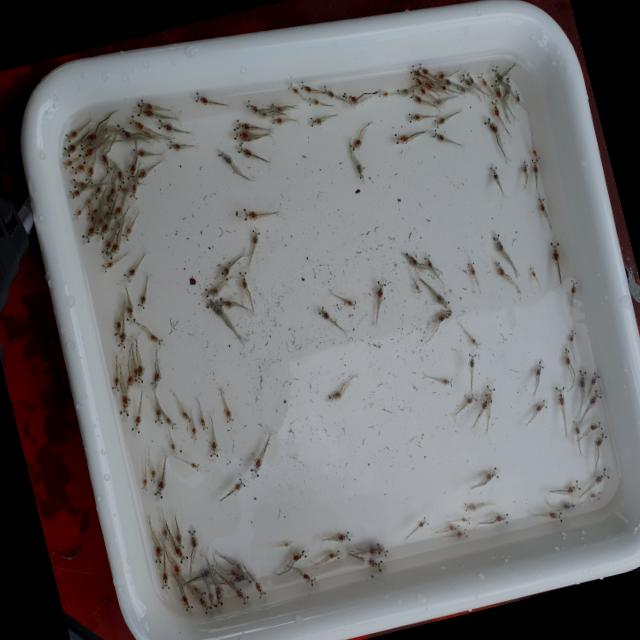babyshrimp: (218, 392, 238, 429), (201, 294, 225, 316), (430, 303, 454, 325), (198, 276, 220, 299), (151, 468, 166, 501), (230, 582, 250, 606), (124, 293, 139, 324), (195, 591, 213, 616), (491, 228, 507, 255), (483, 112, 499, 139), (113, 159, 127, 188), (240, 205, 265, 221), (548, 237, 560, 270), (585, 387, 603, 409), (352, 155, 366, 182), (297, 568, 318, 586), (592, 464, 610, 485), (218, 255, 232, 282), (341, 89, 363, 106), (248, 454, 262, 480), (430, 290, 450, 308), (77, 145, 95, 165), (120, 261, 136, 283), (329, 526, 351, 542), (374, 277, 387, 304), (208, 430, 220, 459), (482, 464, 500, 483), (562, 477, 581, 495), (407, 60, 425, 79), (243, 94, 260, 114), (554, 383, 567, 409), (237, 267, 249, 295), (217, 293, 238, 309), (179, 589, 194, 611), (252, 578, 267, 600), (212, 582, 225, 607), (405, 105, 423, 123), (215, 147, 233, 165), (172, 545, 189, 564), (231, 125, 254, 139), (363, 554, 383, 570), (128, 112, 144, 132), (391, 131, 412, 146), (479, 390, 492, 414), (186, 525, 199, 549), (119, 388, 130, 416), (84, 156, 95, 184), (134, 100, 152, 117), (194, 88, 213, 104), (317, 302, 332, 322), (593, 429, 608, 449), (465, 350, 478, 373), (131, 406, 142, 433), (168, 431, 179, 458), (134, 288, 148, 309), (80, 223, 94, 244), (291, 545, 308, 562), (490, 163, 502, 187), (463, 386, 479, 404), (100, 257, 116, 275), (351, 128, 363, 152), (423, 251, 436, 273), (149, 362, 160, 388), (364, 540, 383, 555), (533, 395, 548, 414), (129, 169, 148, 184), (297, 78, 316, 93), (164, 412, 178, 432), (490, 510, 510, 524), (535, 194, 548, 215), (236, 141, 252, 158), (430, 127, 448, 142), (153, 397, 163, 424), (160, 564, 170, 591), (586, 419, 604, 434), (318, 82, 336, 97), (156, 117, 175, 131), (489, 62, 503, 81), (488, 97, 500, 119), (533, 356, 545, 378), (100, 233, 112, 255), (438, 373, 454, 389), (461, 498, 478, 513), (146, 331, 163, 346), (62, 140, 77, 157), (468, 333, 482, 351), (545, 508, 563, 522), (94, 221, 108, 239), (493, 257, 506, 276), (327, 386, 343, 401), (134, 358, 144, 382), (107, 239, 119, 259), (410, 70, 424, 87), (305, 94, 322, 108), (308, 114, 326, 127), (183, 458, 201, 471), (127, 154, 136, 180), (250, 226, 261, 247), (116, 326, 126, 349), (110, 368, 120, 391), (578, 366, 588, 389), (572, 416, 582, 439), (231, 475, 245, 491), (235, 117, 251, 131), (588, 368, 601, 385), (489, 78, 502, 95), (563, 344, 572, 368), (466, 257, 476, 278), (433, 114, 448, 128), (325, 547, 340, 561), (415, 514, 430, 528), (128, 180, 138, 201), (109, 204, 123, 219), (459, 71, 472, 87), (168, 138, 185, 150), (433, 75, 453, 85), (113, 315, 122, 337), (200, 409, 209, 431), (189, 418, 198, 440), (414, 61, 432, 72), (343, 296, 357, 310), (64, 128, 78, 142), (120, 225, 133, 240), (67, 187, 82, 200), (70, 162, 85, 175), (286, 79, 299, 94), (520, 156, 528, 179), (409, 88, 423, 101), (61, 156, 74, 170), (530, 147, 542, 162), (154, 544, 163, 564), (279, 536, 294, 548), (270, 112, 285, 124), (90, 185, 102, 200), (567, 326, 577, 343), (377, 86, 391, 98), (72, 176, 86, 188), (206, 588, 215, 606), (530, 157, 538, 177), (72, 207, 83, 221), (570, 275, 578, 294), (140, 472, 148, 490), (589, 489, 601, 500), (414, 279, 422, 295), (528, 265, 537, 279), (149, 465, 156, 483), (139, 96, 150, 107), (466, 69, 475, 81), (514, 87, 521, 102), (380, 546, 389, 557), (438, 82, 447, 90)
